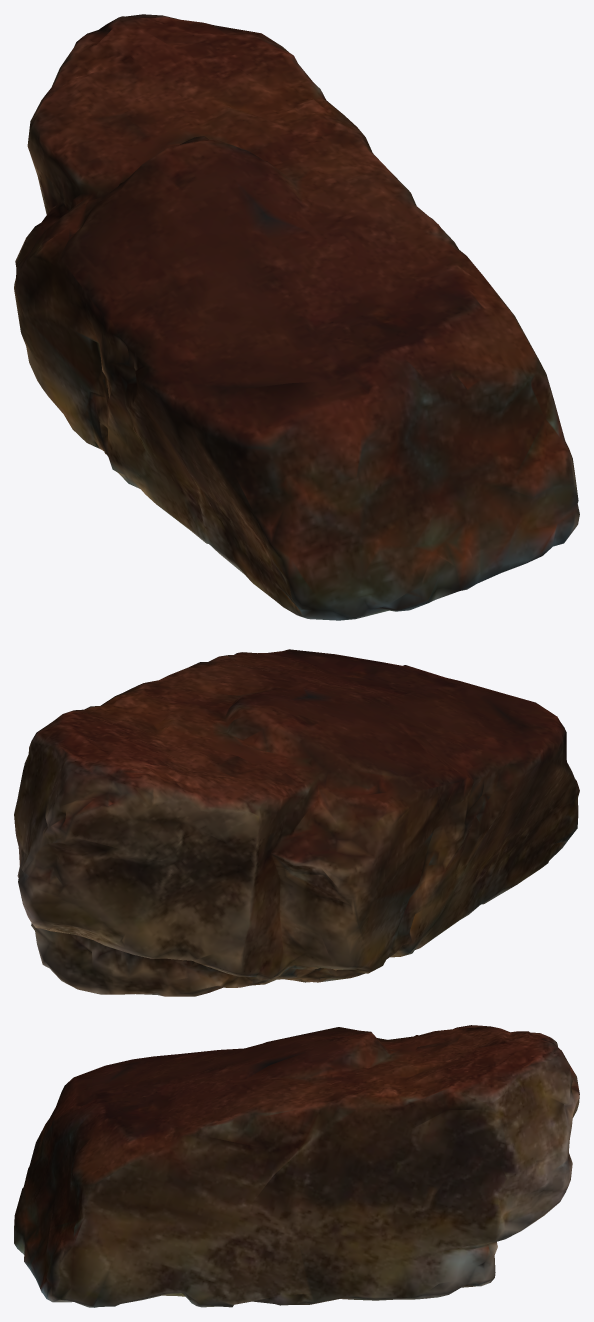
File: piedra.glb
3 renders of one model, top to bottom at view 1: azimuth 30°, elevation 25°; view 2: azimuth 150°, elevation 25°; view 3: azimuth 270°, elevation 25°, orthographic. The views are drawn at different scales.
Parts seen in each view (by area): view 1: rock_07; view 2: rock_07; view 3: rock_07.
Part boxes in pixels (x1,y1,x2,y2): rock_07: [14, 14, 579, 620]; rock_07: [14, 649, 579, 996]; rock_07: [14, 1025, 579, 1307].
Size of the model in its own units: 0.1686 by 0.1437 by 0.3199.
1 material, 1 textured.
